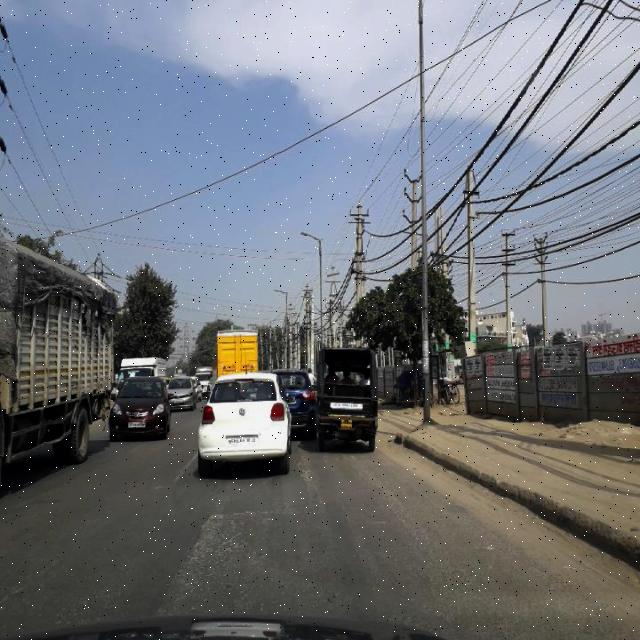D20: (412, 528, 558, 639), (166, 507, 280, 606), (348, 458, 421, 524)
